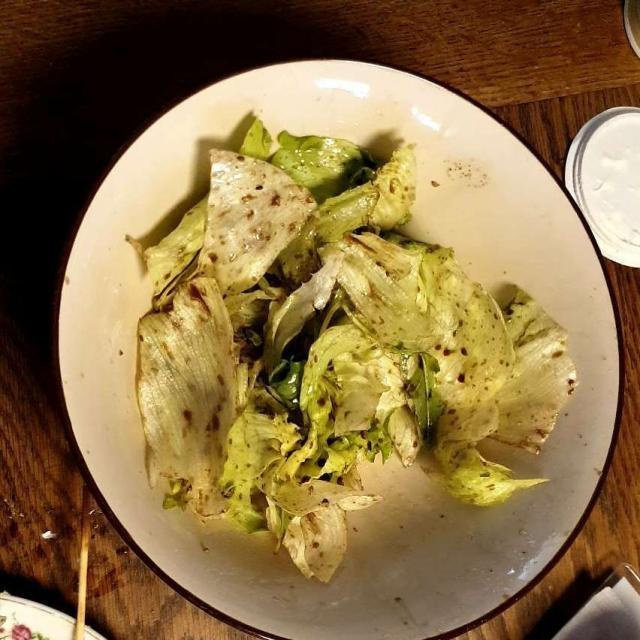salad: (137, 124, 562, 574)
